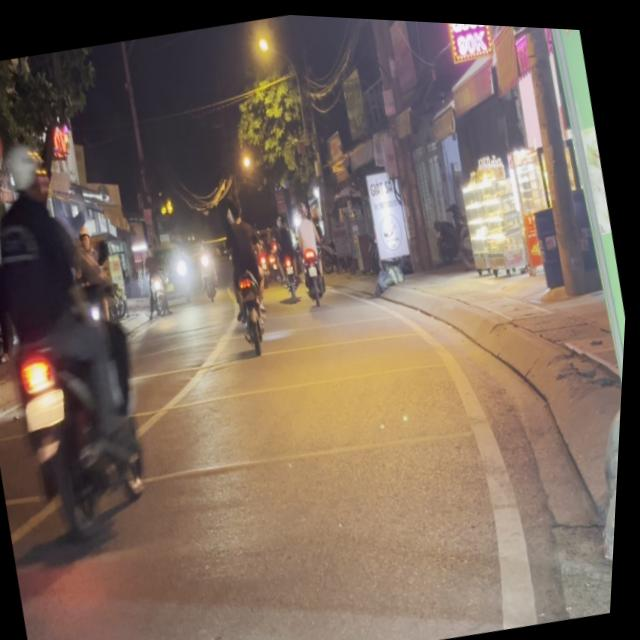helmet: (2, 139, 53, 207)
licenseplate: (0, 124, 185, 570)
nohelmet: (23, 384, 72, 431)
